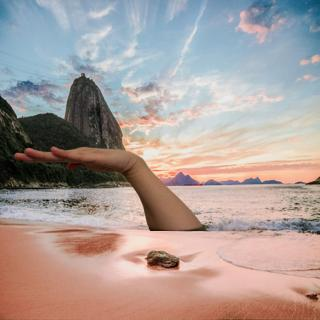WAIT: (12, 139, 140, 173)
